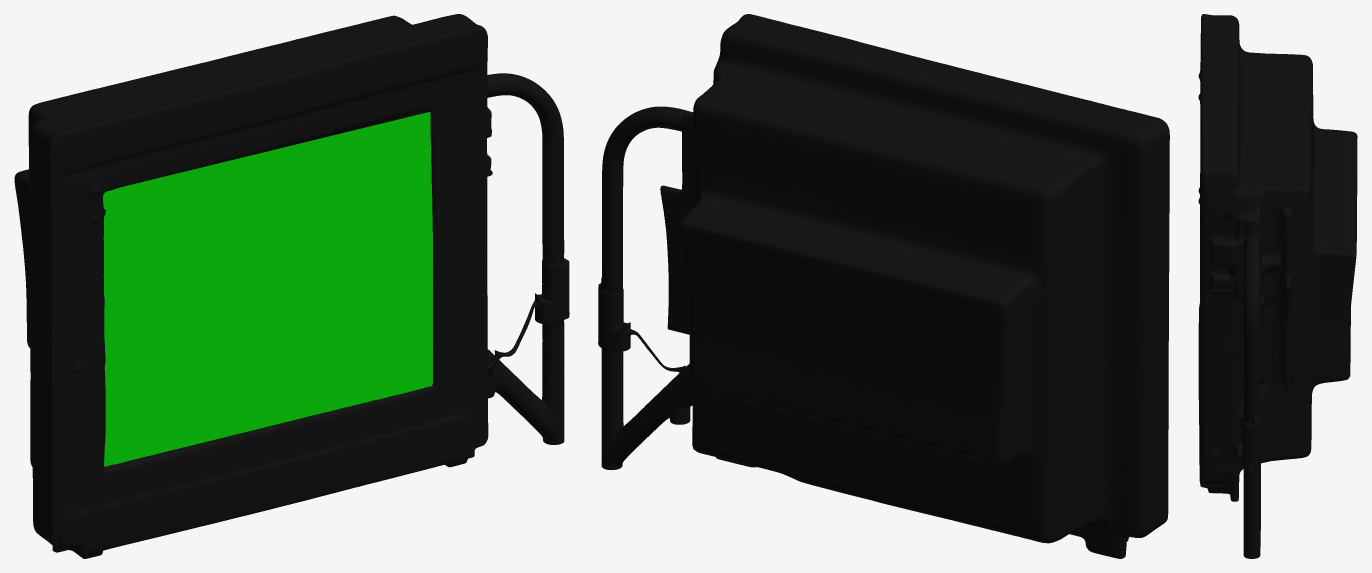
The model's file is green_panel.dae.
3 renders of one model, left to right at view 1: azimuth 30°, elevation 25°; view 2: azimuth 150°, elevation 25°; view 3: azimuth 270°, elevation 25°, orthographic. The views are drawn at different scales.
Parts seen in each view (by area): view 1: model; view 2: model; view 3: model.
Part boxes in pixels (left/top/right/bottom): model: left=14, top=14, right=569, bottom=558; model: left=598, top=14, right=1169, bottom=558; model: left=1198, top=14, right=1357, bottom=558.
Size of the model in its own units: 1.9 by 0.6303 by 1.53.
